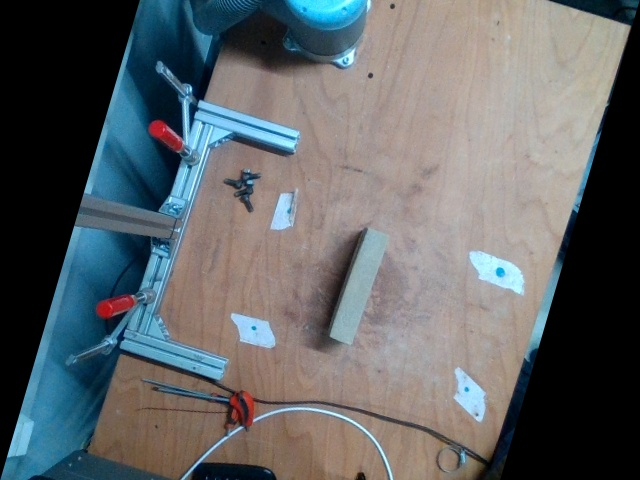brick-side: (332, 232, 388, 343)
